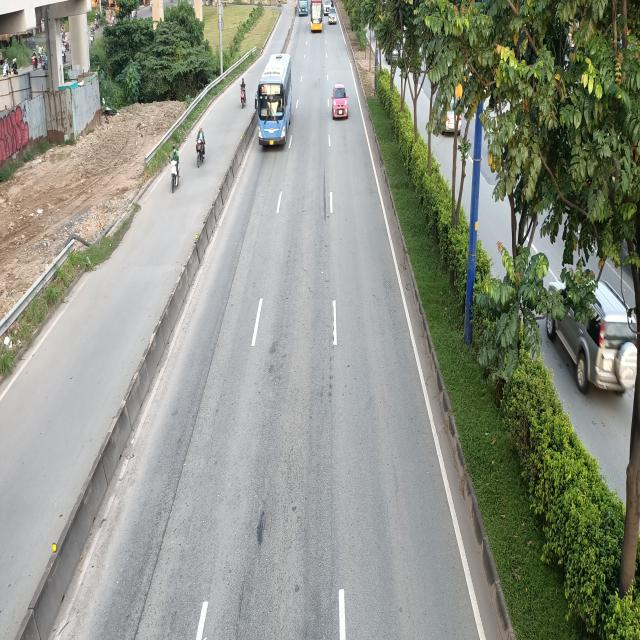car: (332, 85, 350, 122)
coach: (255, 54, 294, 149), (311, 1, 324, 34)
